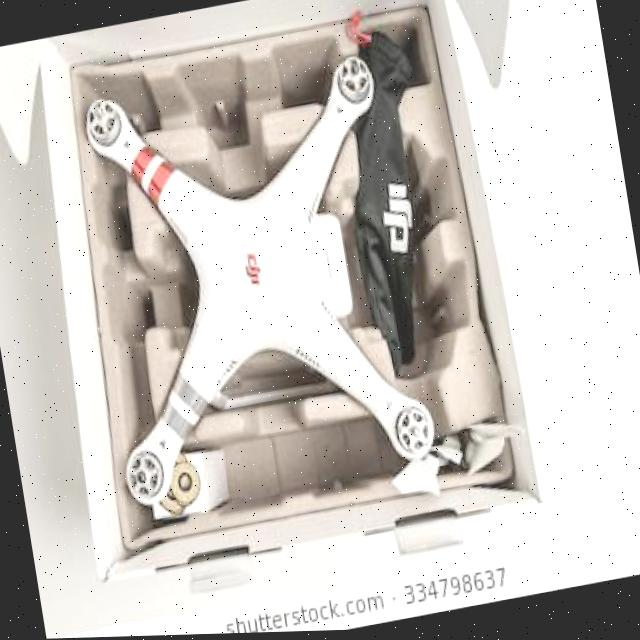drone: (42, 16, 500, 564)
